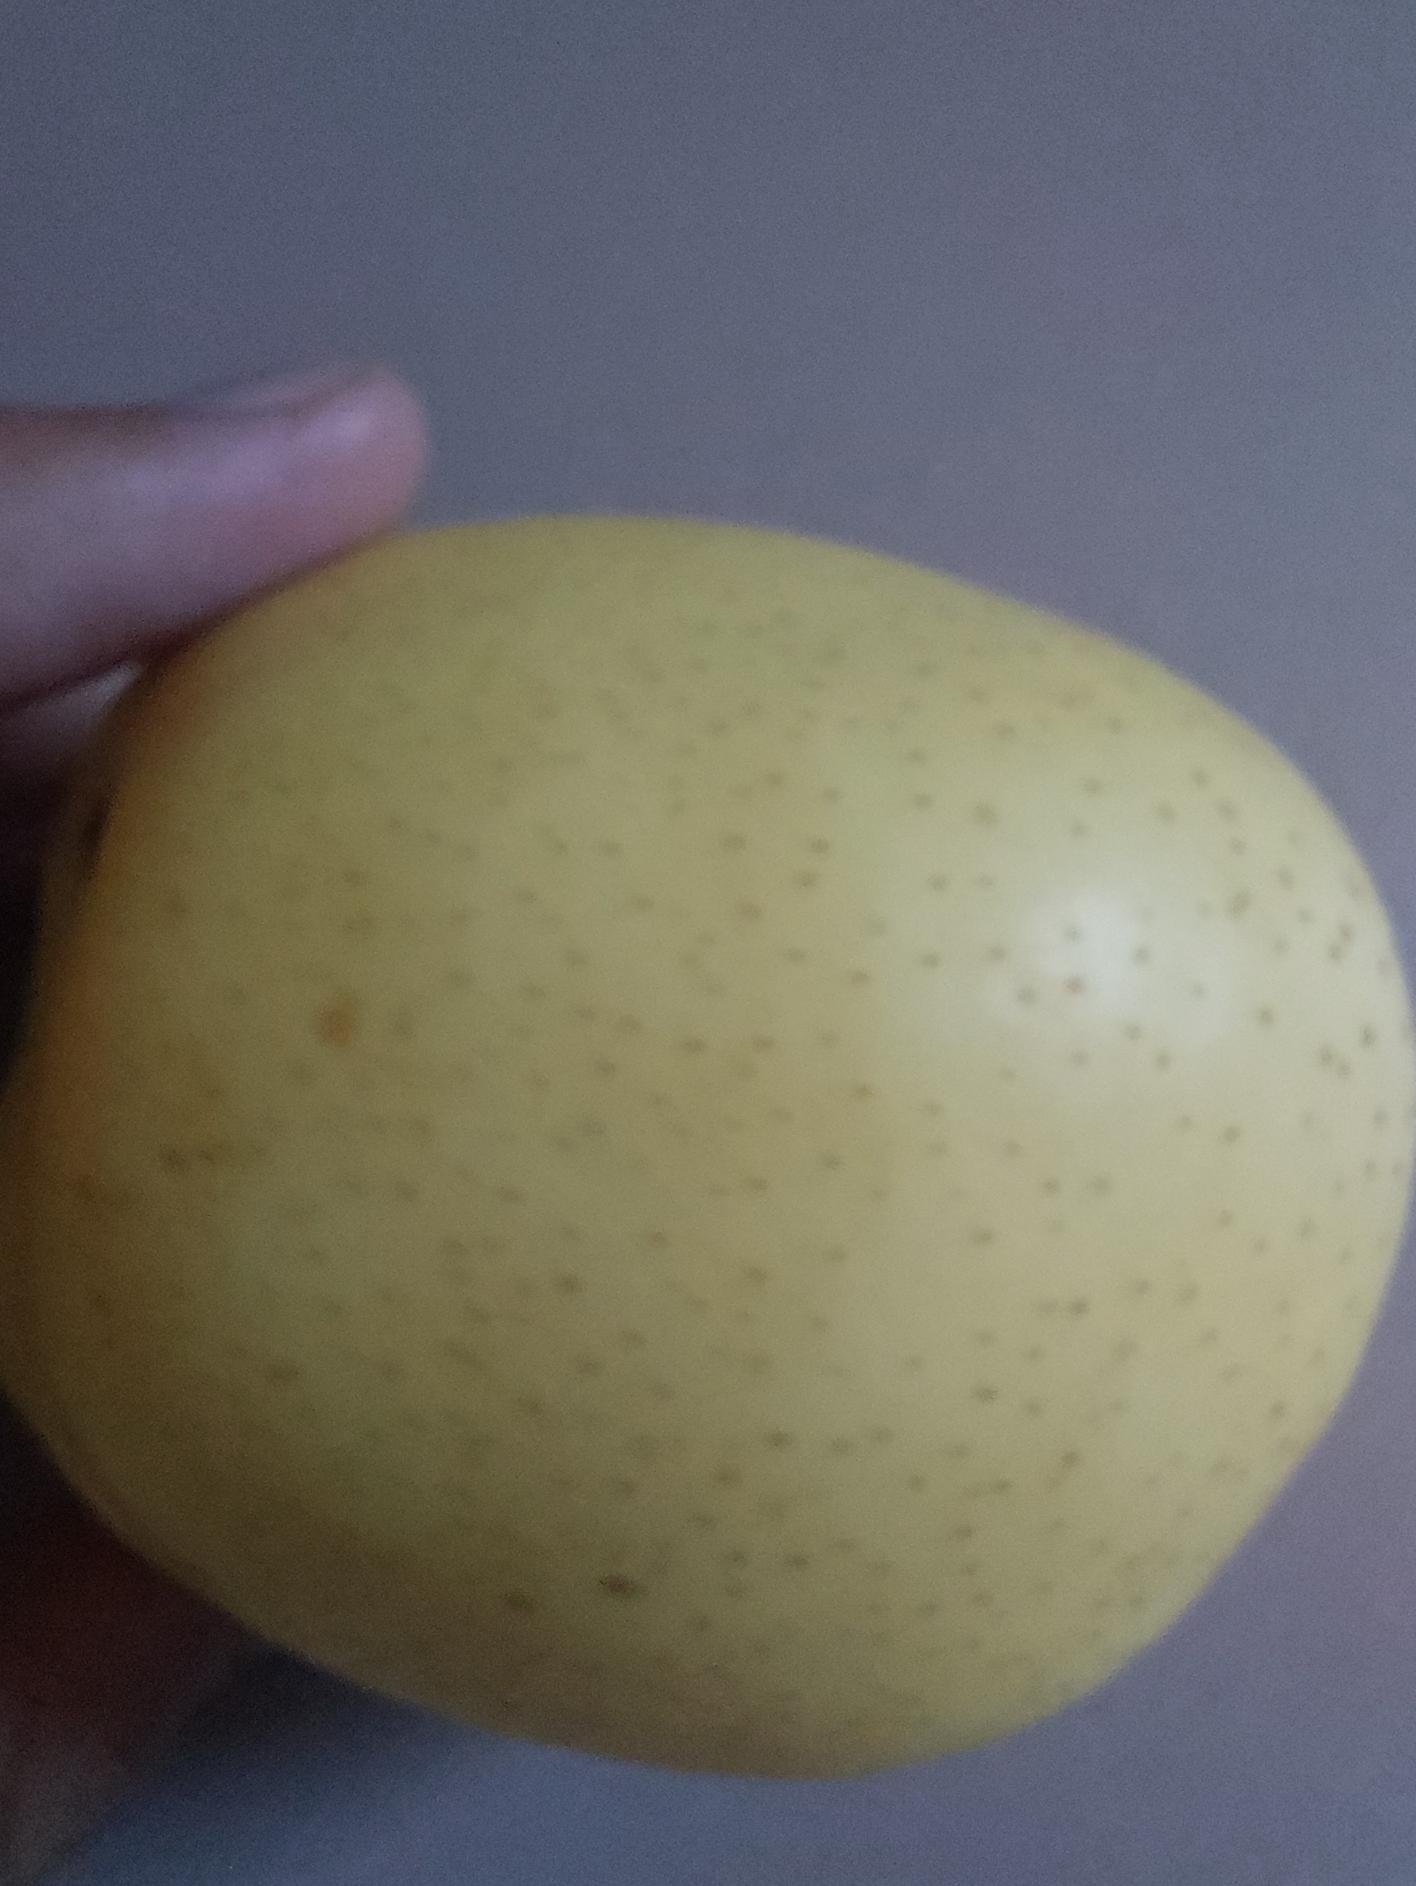Good Pear: (169, 624, 1416, 1842)
